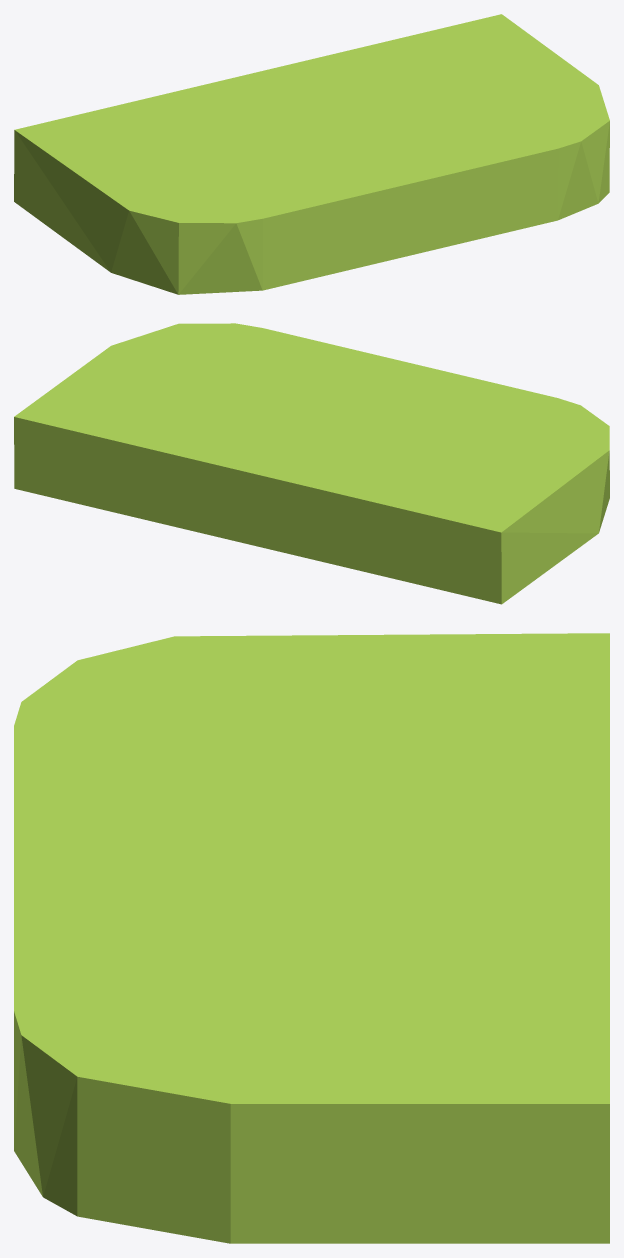
Rendered from niryo_one_Link_3_coll_4.dae.
The picture shows the model from 3 angles, top to bottom: view 1: azimuth 30°, elevation 25°; view 2: azimuth 150°, elevation 25°; view 3: azimuth 270°, elevation 25°; orthographic projection. The views are drawn at different scales.
Visible parts, largest first — view 1: Node_00000276BF539E60; view 2: Node_00000276BF539E60; view 3: Node_00000276BF539E60.
Boxes of the visible parts, x1=… form: Node_00000276BF539E60: x1=14, y1=14, x2=609, y2=294; Node_00000276BF539E60: x1=14, y1=323, x2=609, y2=604; Node_00000276BF539E60: x1=14, y1=633, x2=609, y2=1243.
Bounding box in the file's own units: 0.0355 × 0.00522 × 0.0193.
